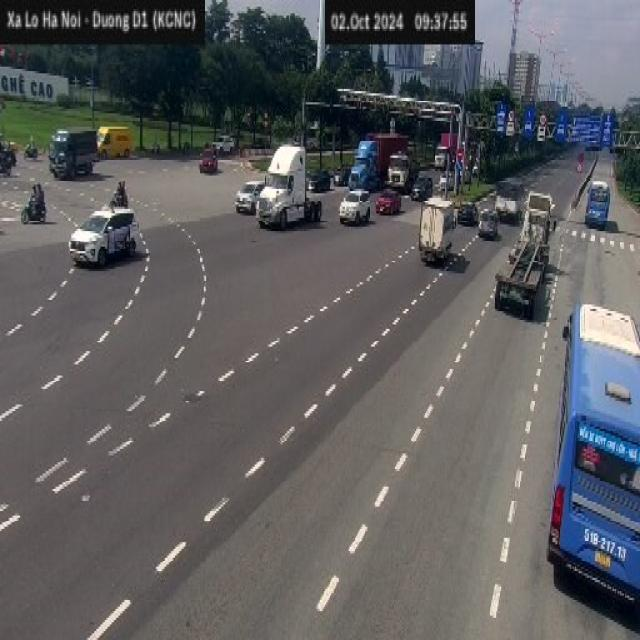bus: (546, 300, 639, 613), (585, 175, 614, 232)
container-truck: (256, 142, 322, 229)
truck: (418, 190, 457, 268), (48, 126, 98, 178)
